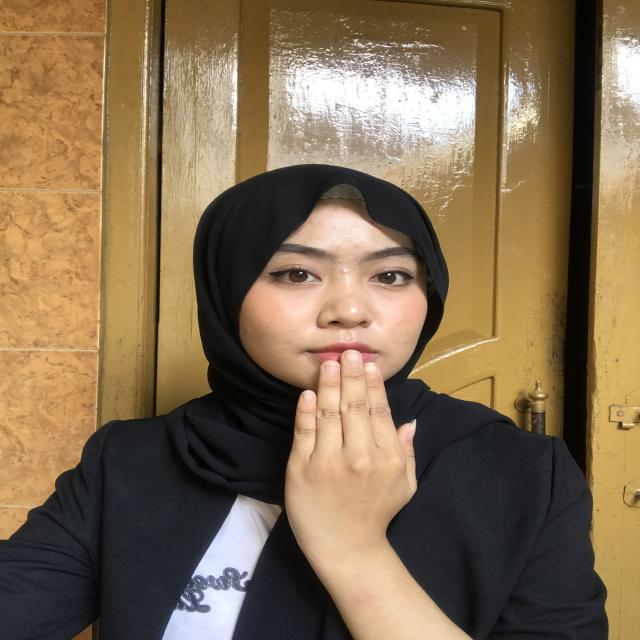ganteng: (266, 344, 439, 544)
